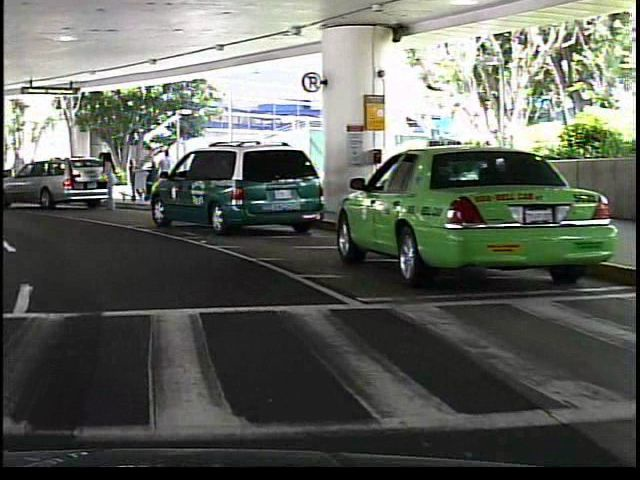person: (96, 147, 116, 210)
